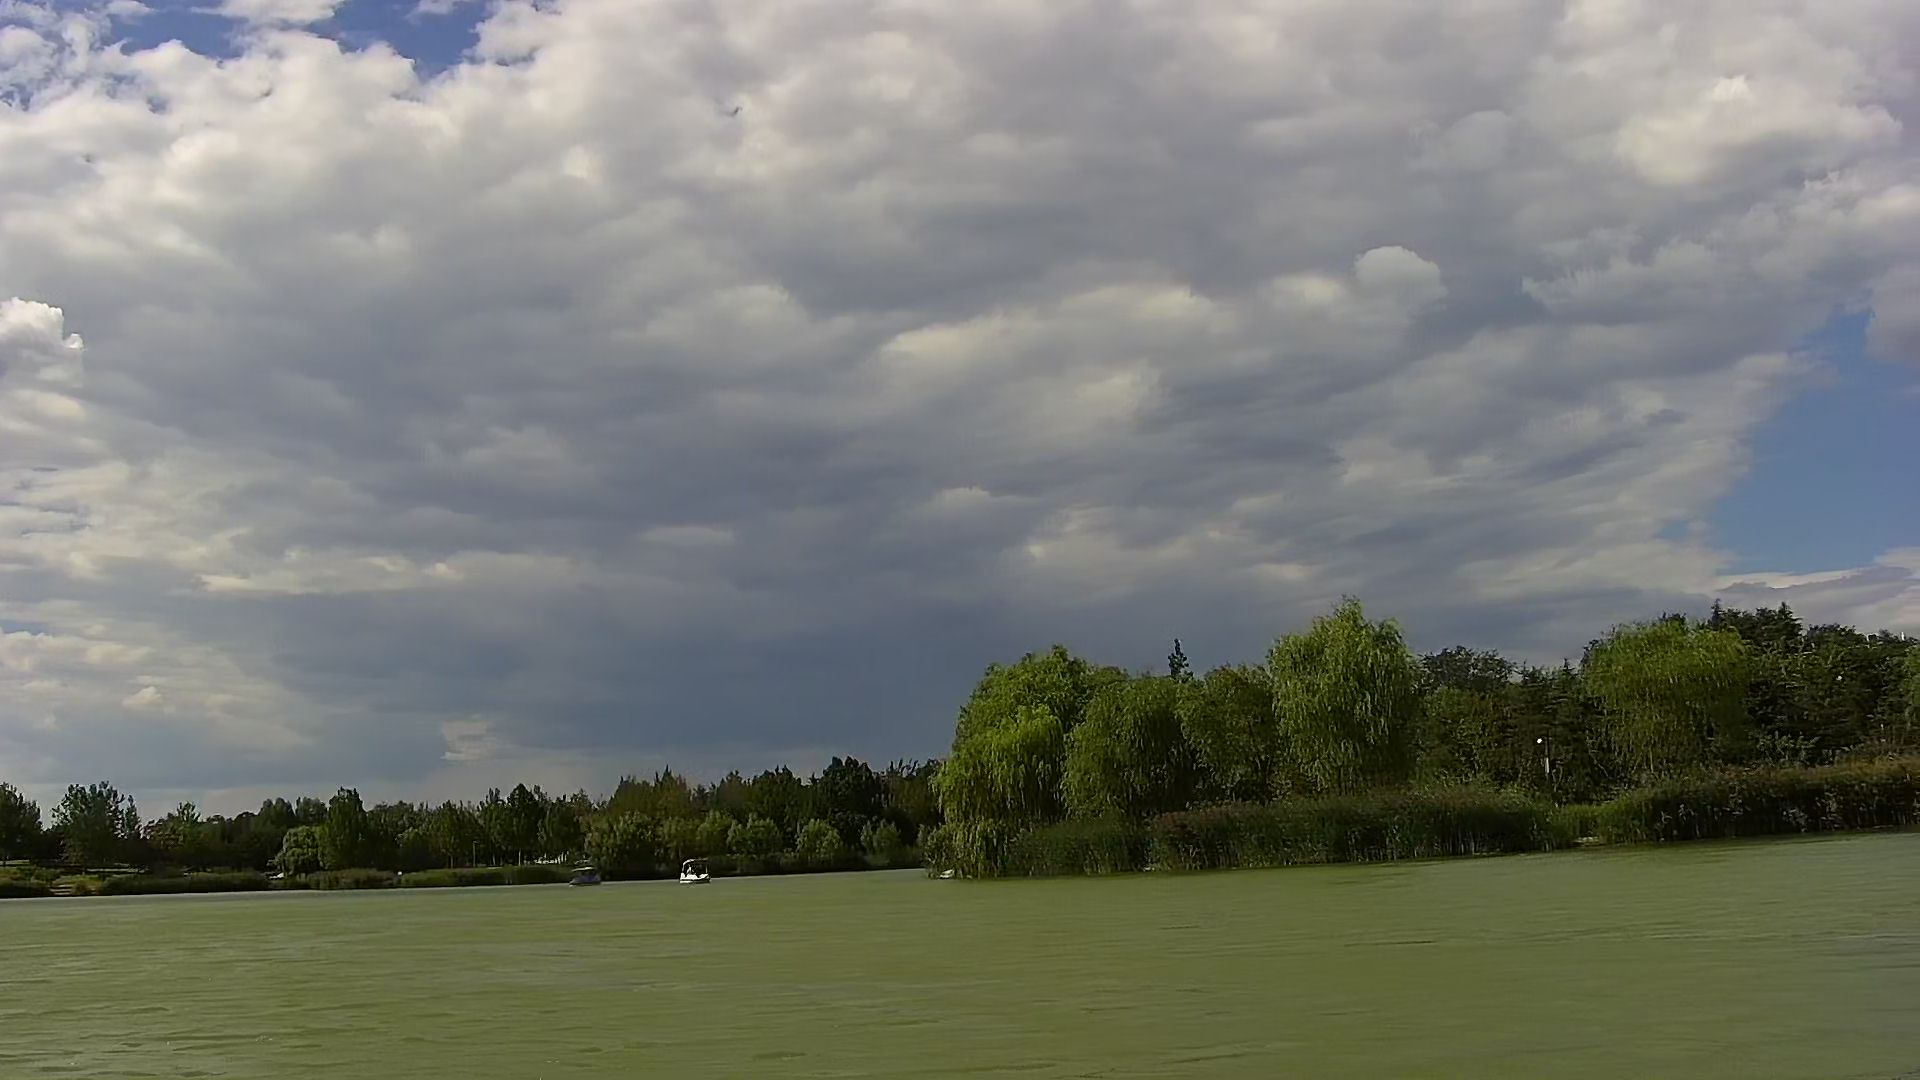boat: (676, 856, 713, 887), (566, 865, 609, 889)
